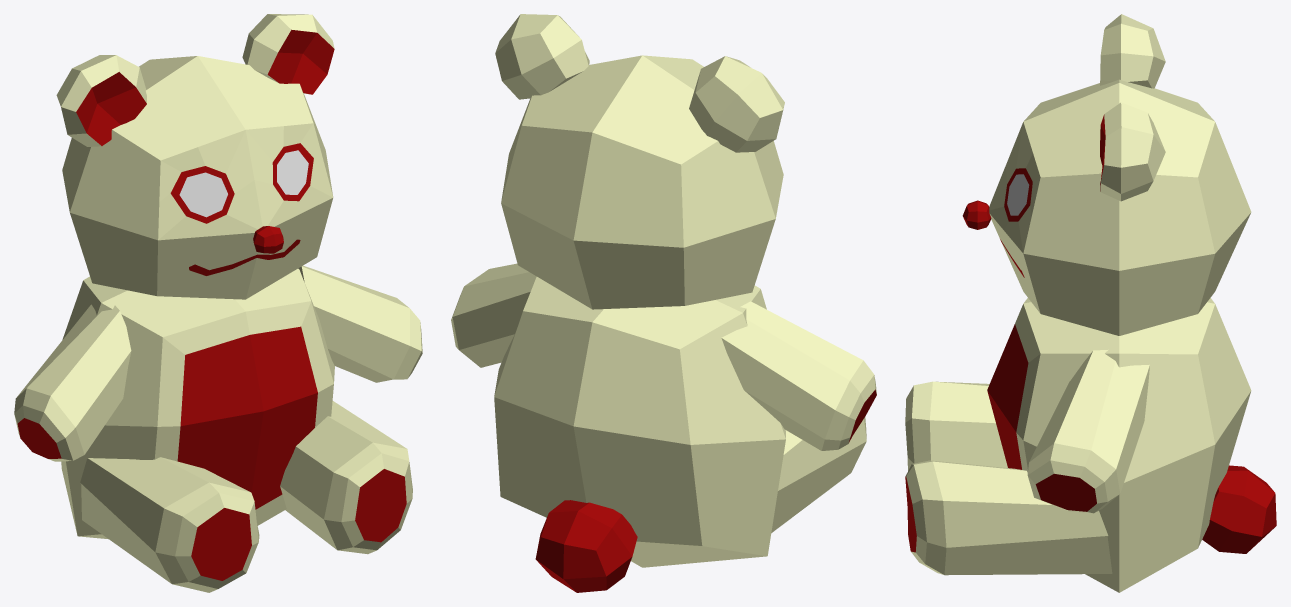
File: urso.fbx
The picture shows the model from 3 angles, left to right: view 1: azimuth 30°, elevation 25°; view 2: azimuth 150°, elevation 25°; view 3: azimuth 270°, elevation 25°; orthographic projection. The views are drawn at different scales.
Visible parts, largest first — view 1: Cube.008; view 2: Cube.008; view 3: Cube.008.
Part boxes in pixels (x1=…): Cube.008: x1=14, y1=14, x2=422, y2=592; Cube.008: x1=451, y1=14, x2=876, y2=592; Cube.008: x1=905, y1=14, x2=1276, y2=592.
Size of the model in its own units: 284 by 359 by 236.
